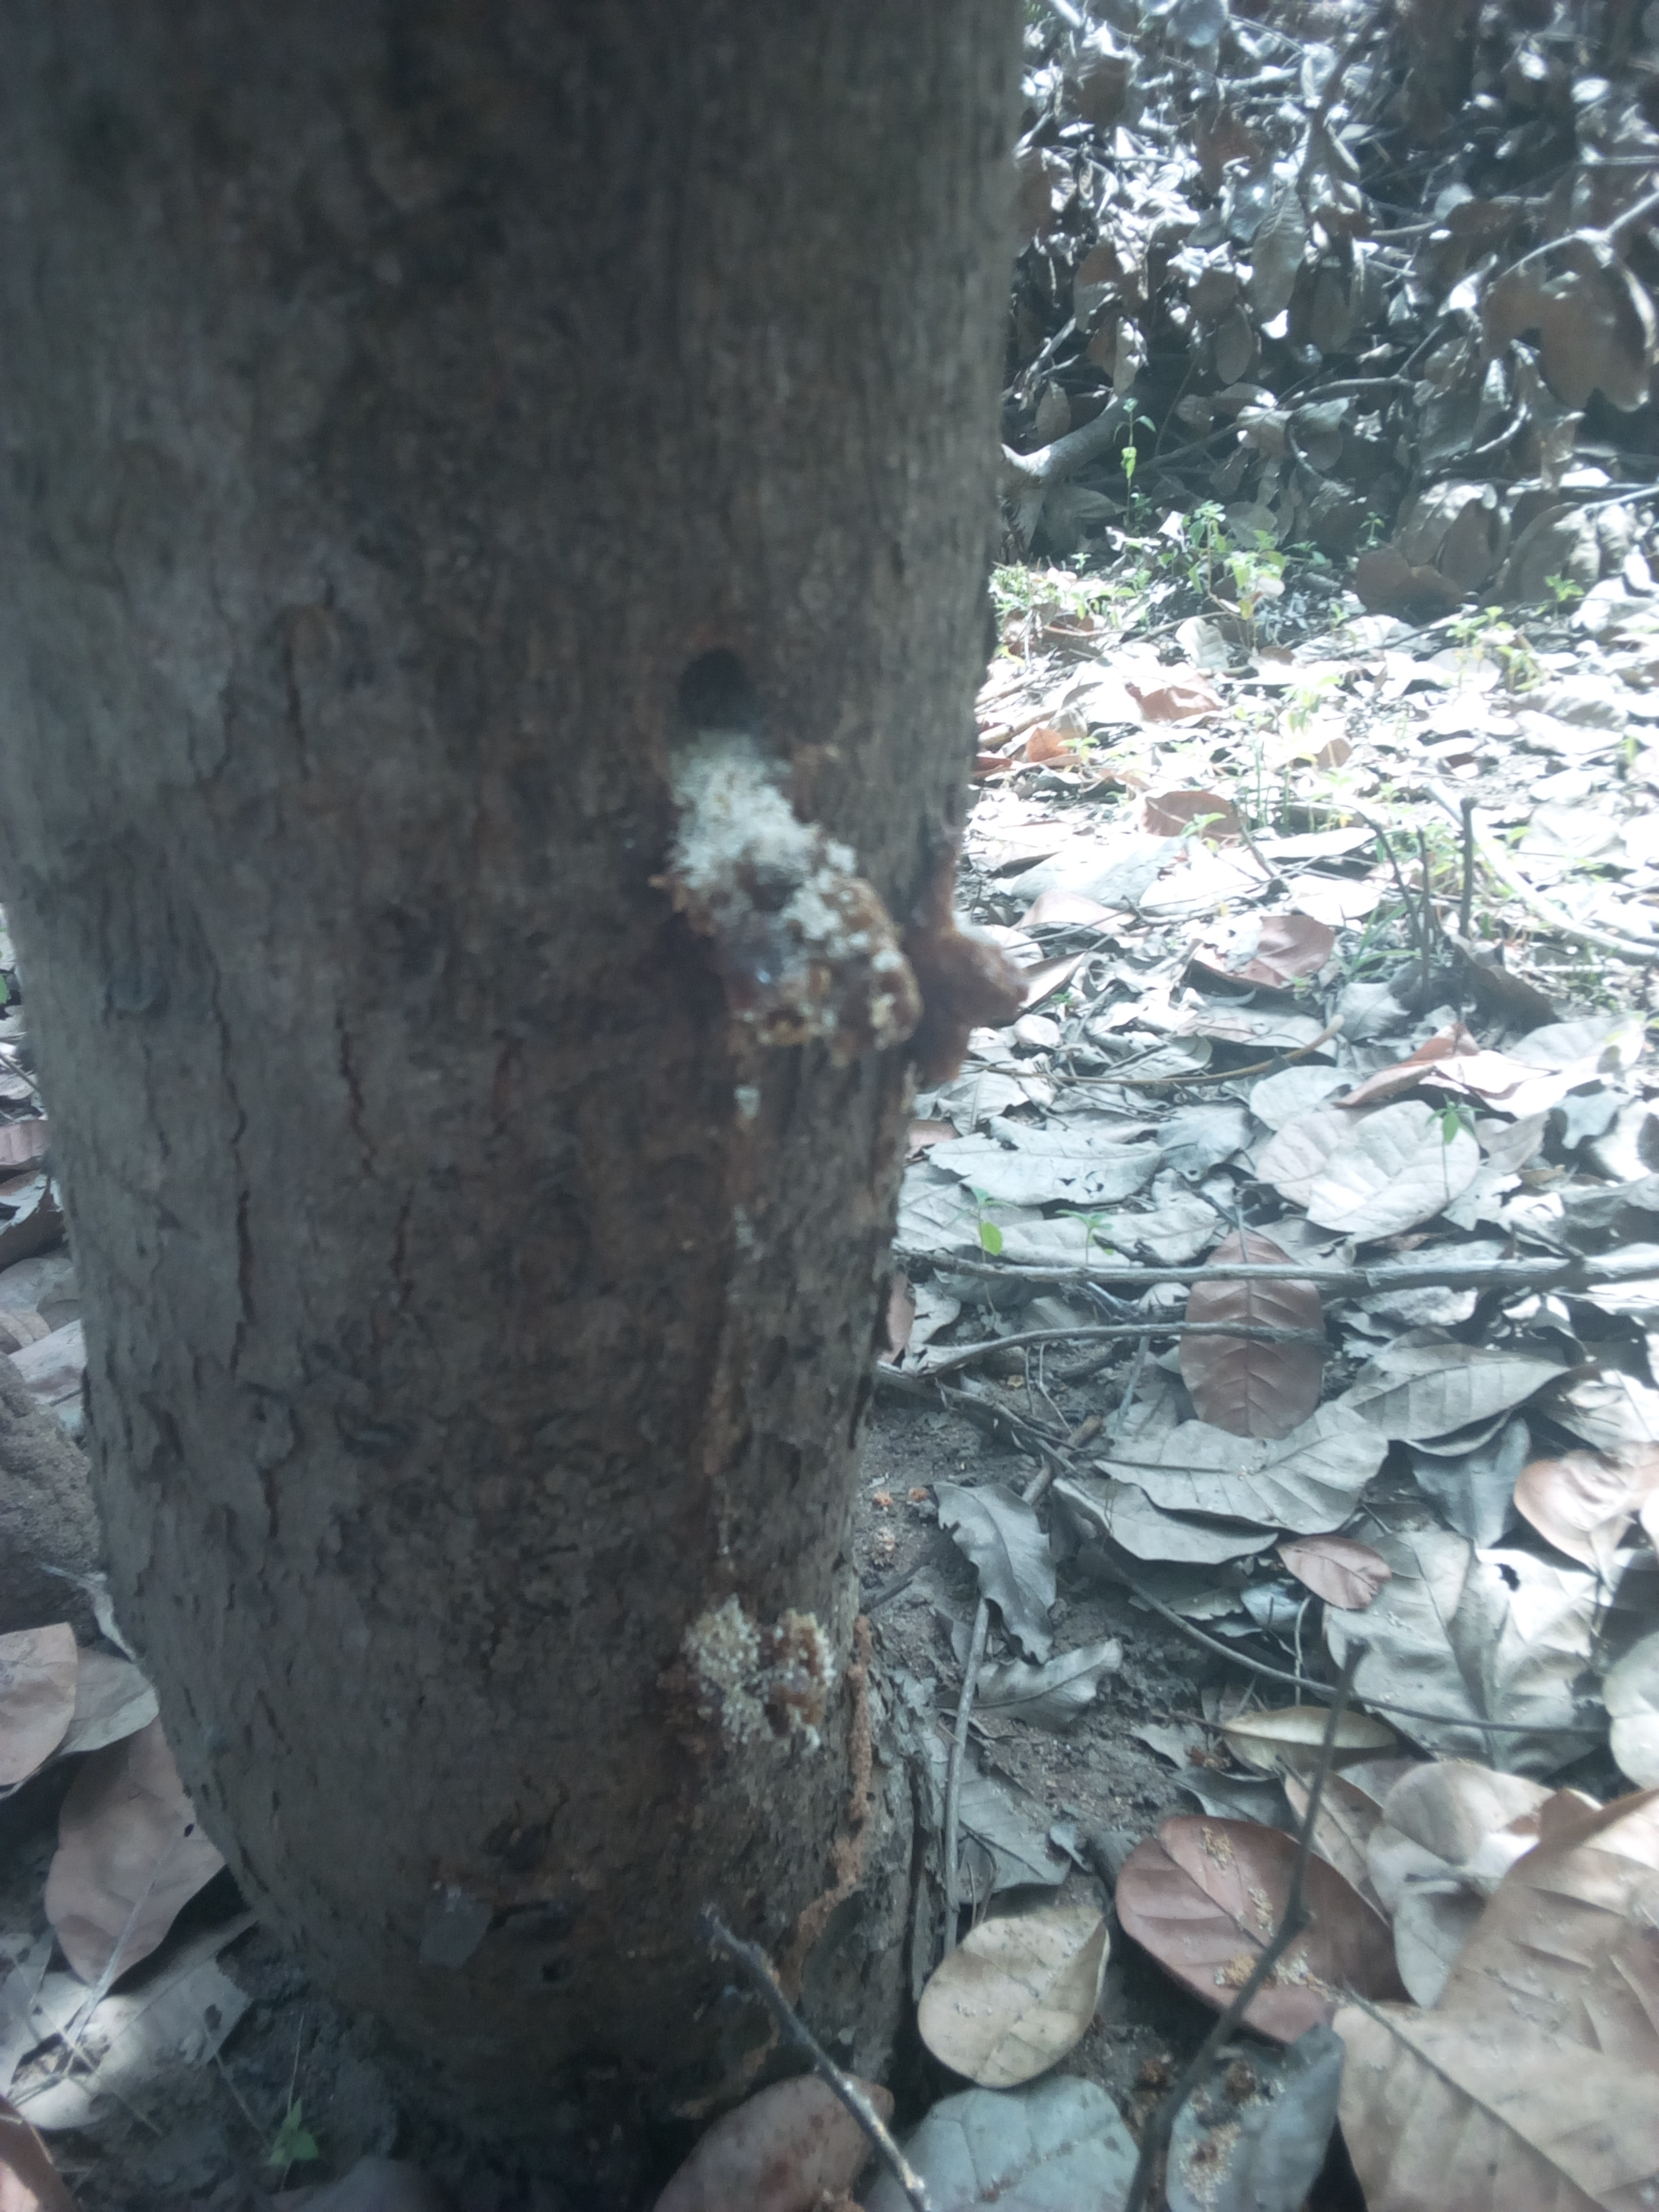Apate terebrans: (514, 590, 983, 1042)
